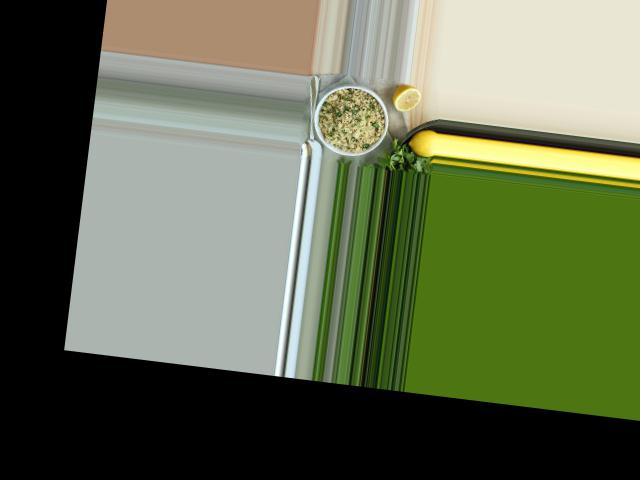lemon: (409, 131, 436, 156)
